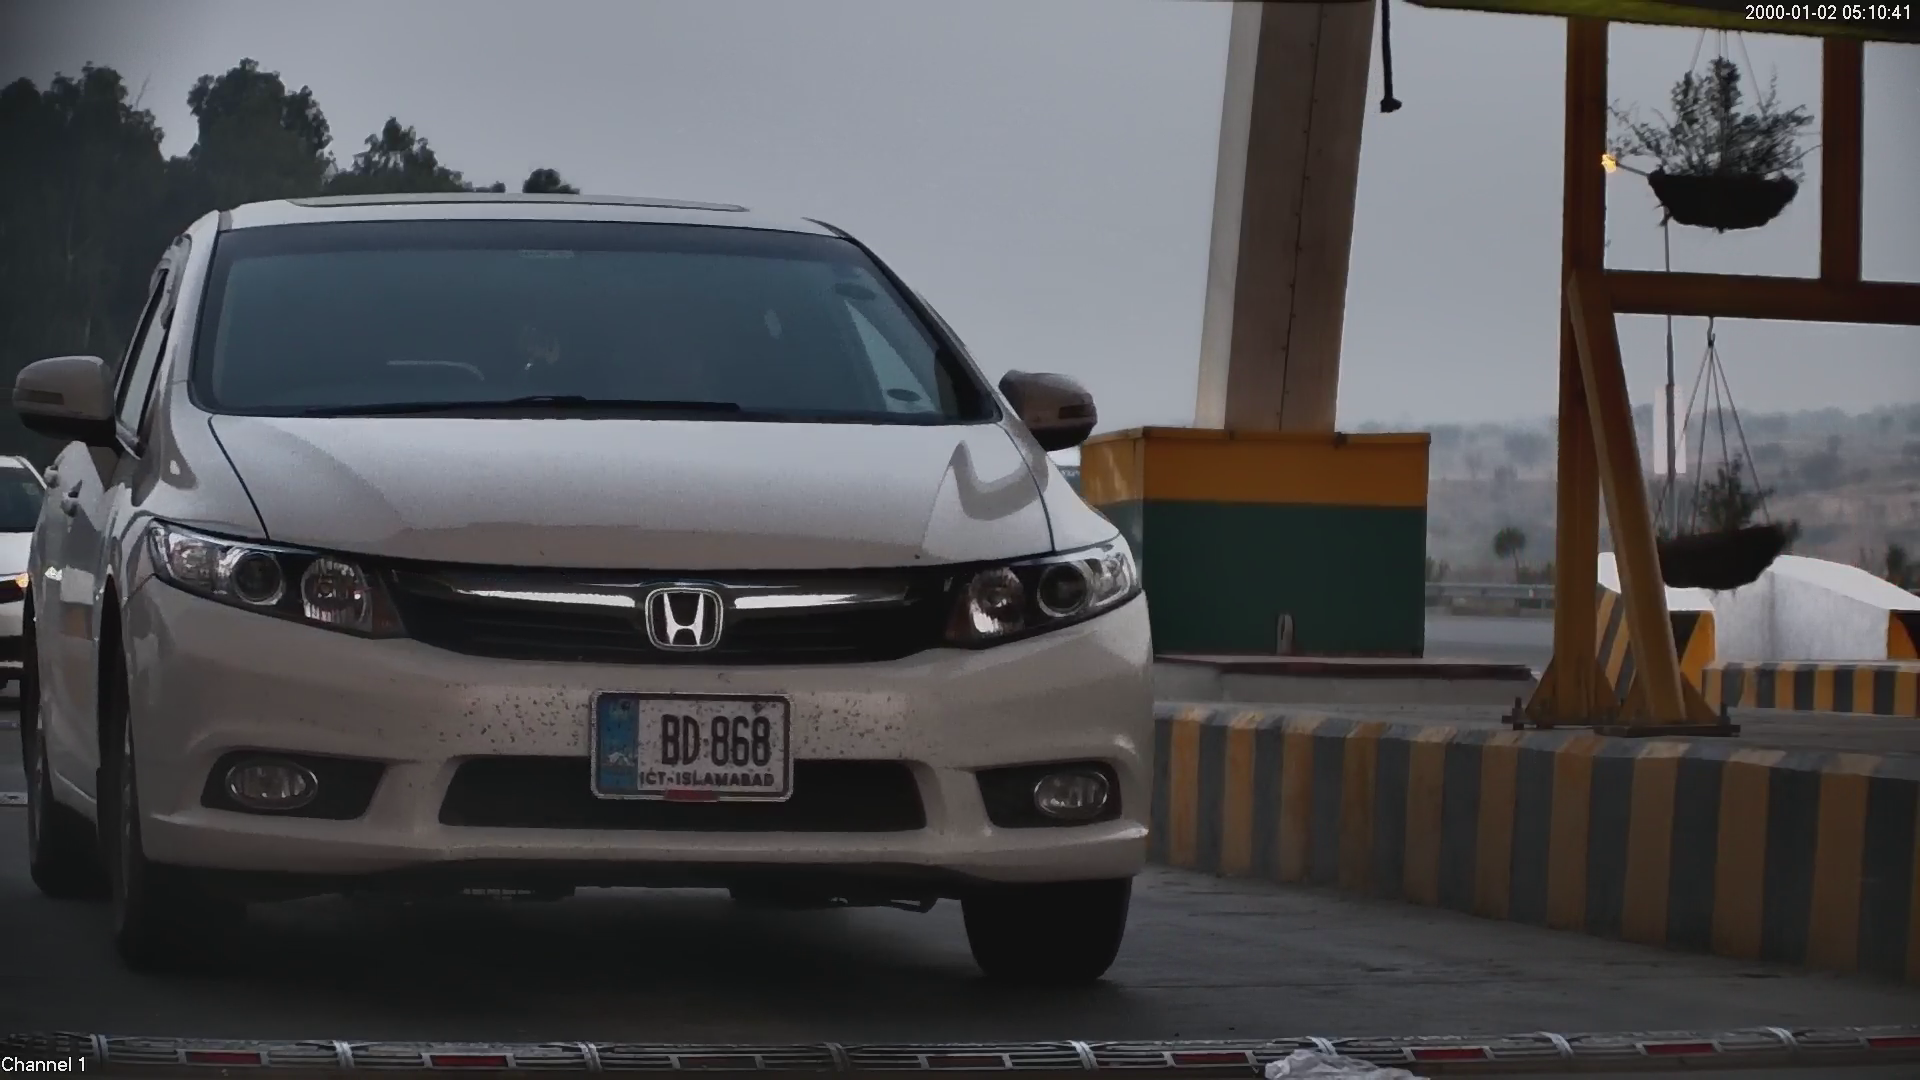Number_Plate: (582, 681, 801, 816)
